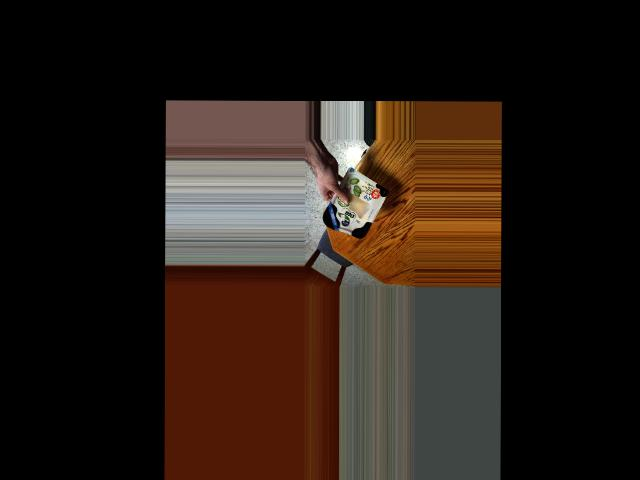cheese: (323, 175, 384, 237)
